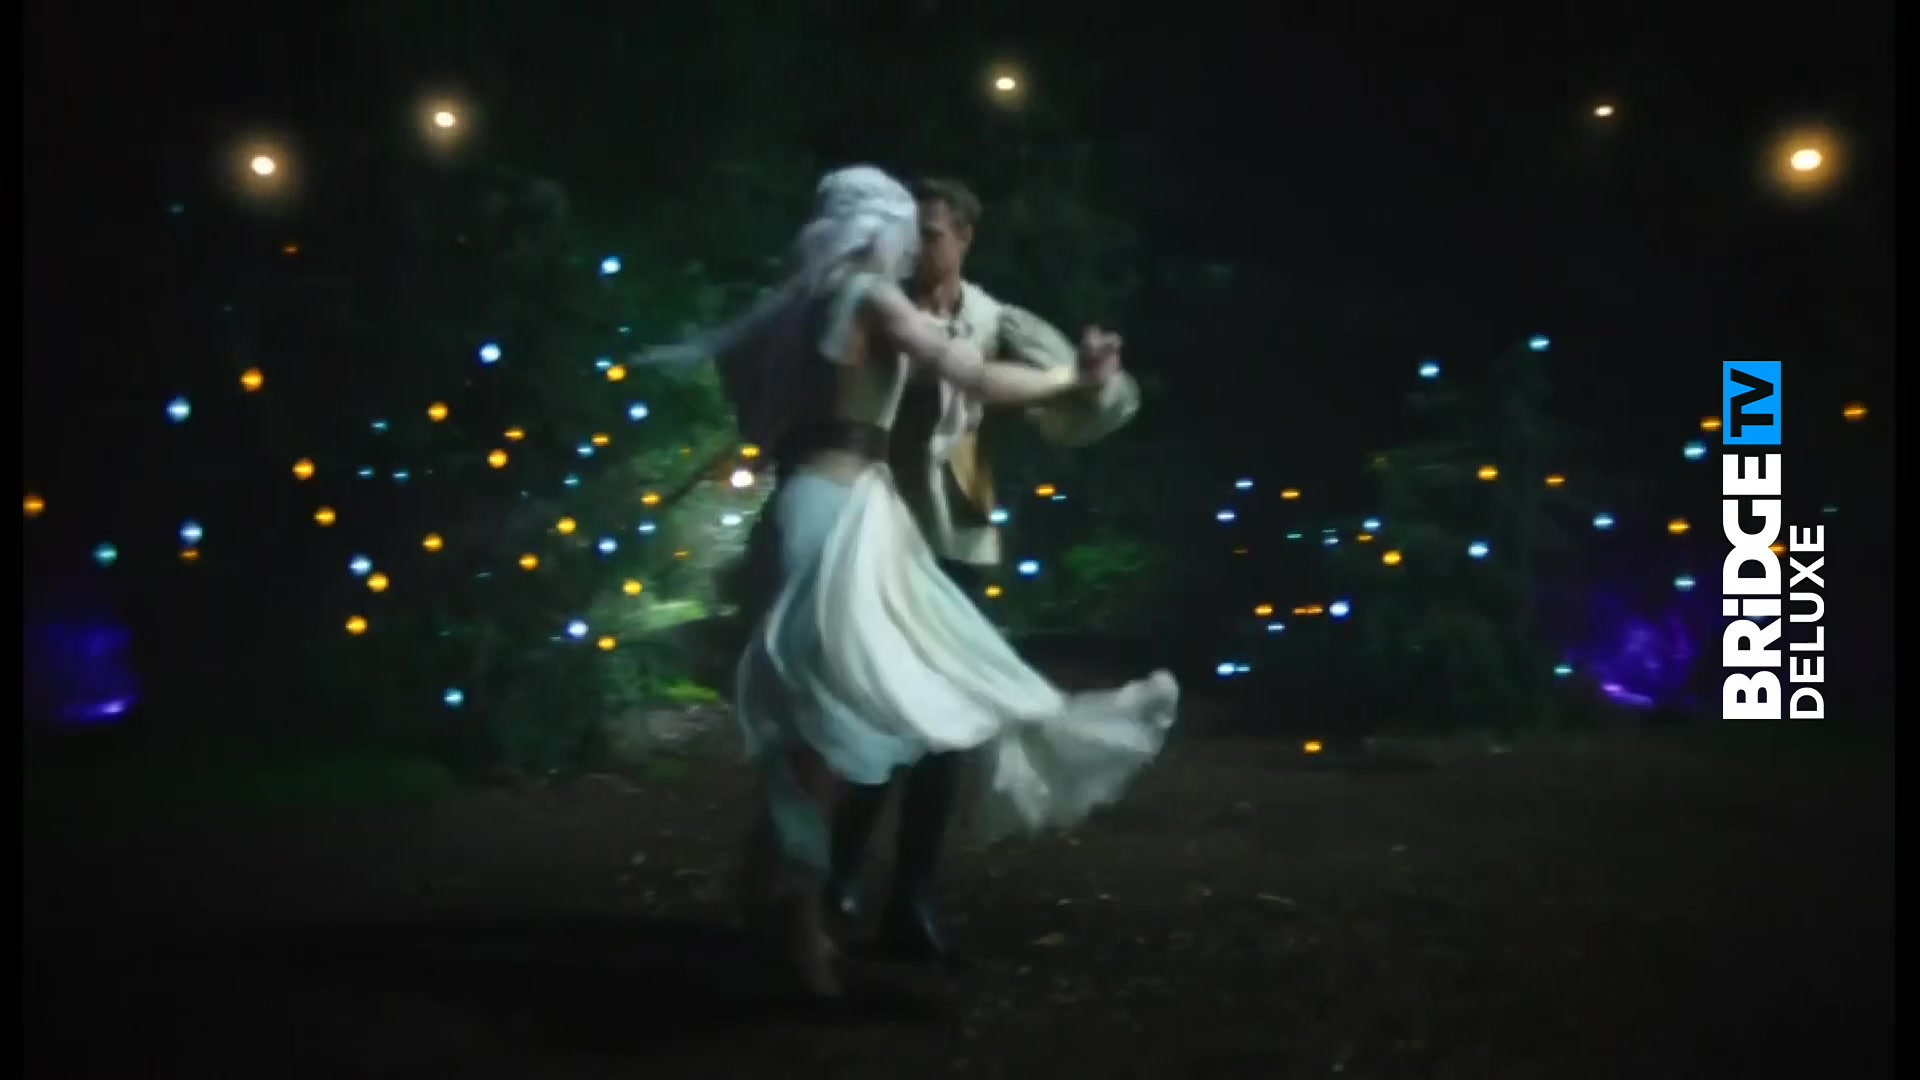Bridge_TV_Deluxe: (1718, 355, 1832, 731)
